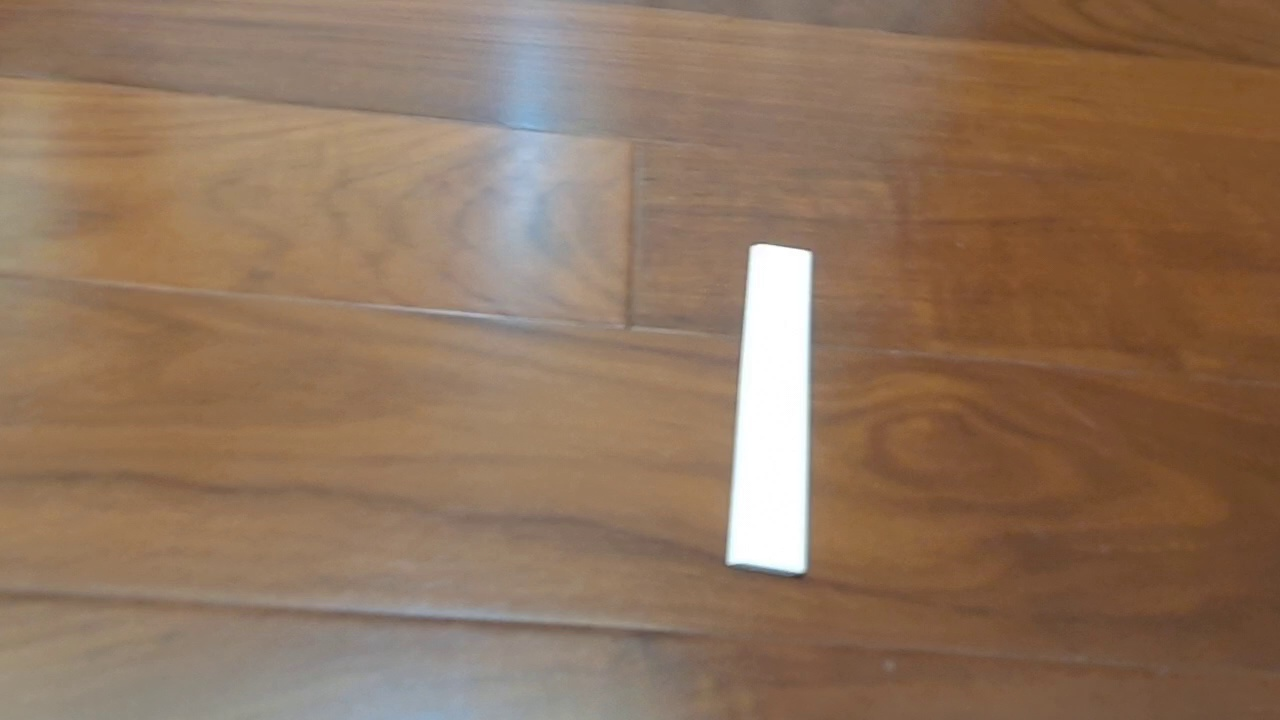ruler: (722, 242, 813, 579)
